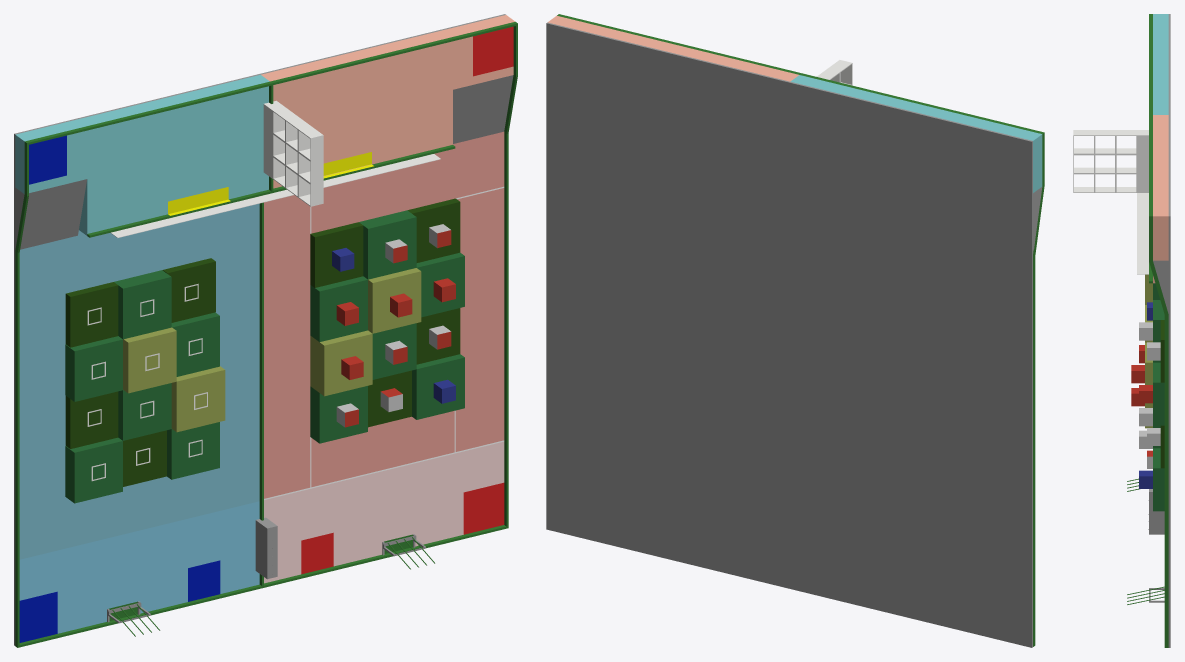
File: arena.dae
3 views of the same model, side by side, from view 1: azimuth 30°, elevation 25°; view 2: azimuth 150°, elevation 25°; view 3: azimuth 270°, elevation 25° (orthographic). The views are drawn at different scales.
Parts seen in each view (by area): view 1: Body1 (×24), Body2 (×10), Body3 (×6), Body4 (×7), Body6 (×2), Body5 (×2); view 2: Body1 (×4); view 3: Body1 (×20), Body4 (×2), Body5, Body3.
Boxes of the visible parts, bbox=[...] form: Body1 (×24): bbox=[14, 14, 517, 647]; Body2 (×10): bbox=[19, 195, 416, 633]; Body3 (×6): bbox=[19, 188, 504, 558]; Body4 (×7): bbox=[19, 131, 504, 559]; Body6 (×2): bbox=[65, 386, 367, 503]; Body5 (×2): bbox=[171, 252, 464, 376]; Body1 (×4): bbox=[546, 14, 1044, 647]; Body1 (×20): bbox=[1073, 14, 1170, 647]; Body4 (×2): bbox=[1153, 320, 1164, 511]; Body5: bbox=[1153, 362, 1164, 425]; Body3: bbox=[1160, 425, 1164, 468].
Size of the model in its own units: 12150 by 12100 by 2470.
